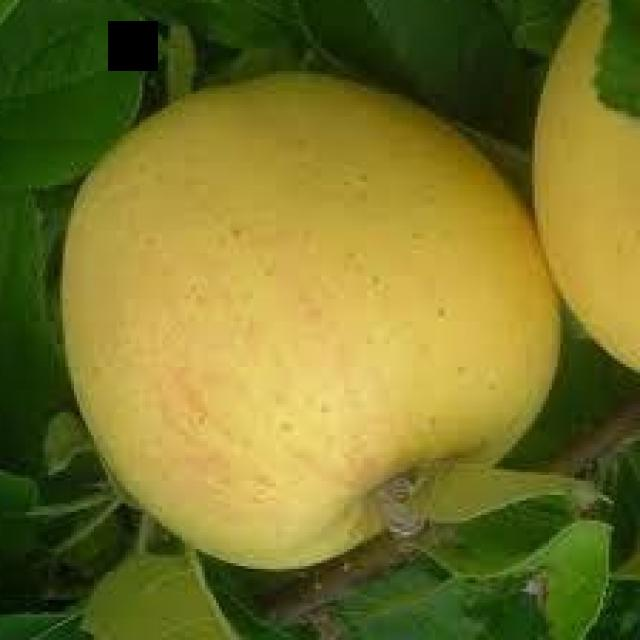green apple: (38, 62, 561, 577)
